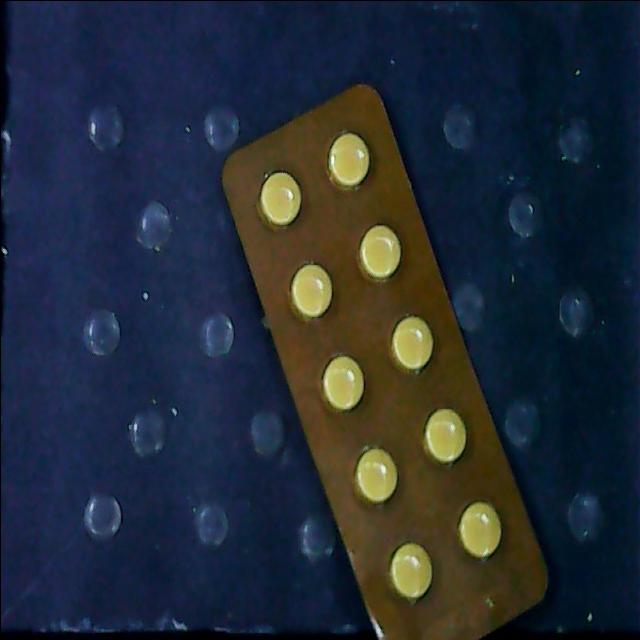-Hazardous waste - medicine inner packaging-: (223, 69, 542, 640)
